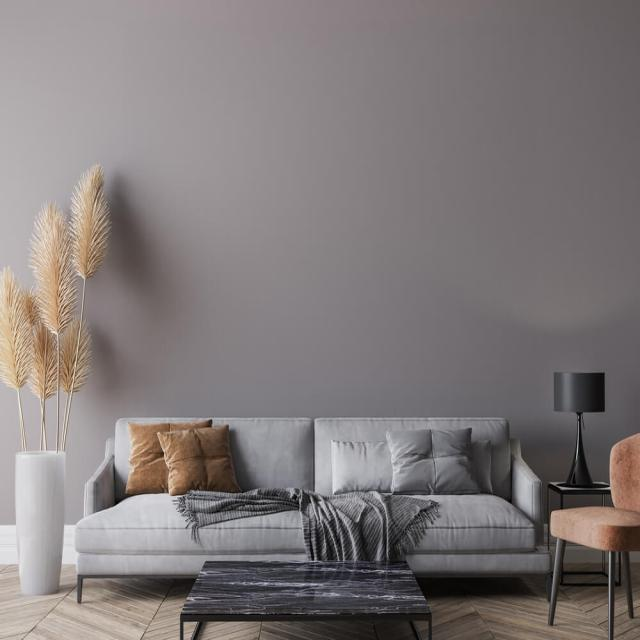modern bed: (82, 387, 554, 604)
modern desk: (174, 558, 431, 637)
